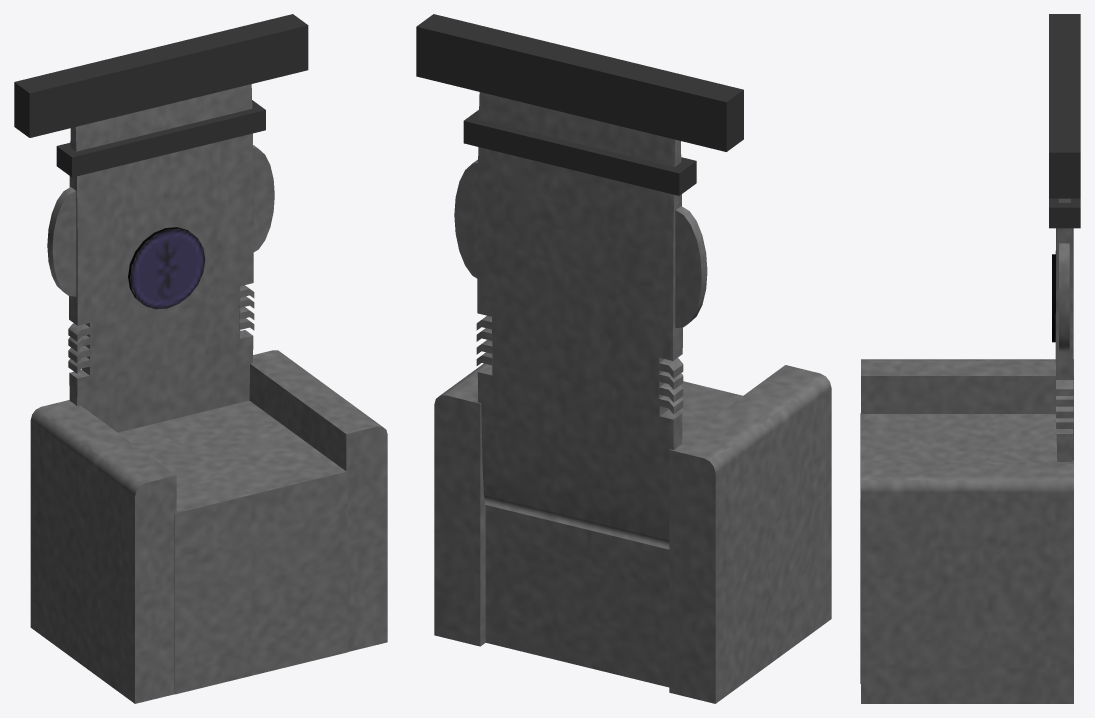
File: Throne of Hades.fbx
The picture shows the model from 3 angles, left to right: view 1: azimuth 30°, elevation 25°; view 2: azimuth 150°, elevation 25°; view 3: azimuth 270°, elevation 25°; orthographic projection. The views are drawn at different scales.
Visible parts, largest first — view 1: pCylinder6; view 2: pCylinder6; view 3: pCylinder6.
Part boxes in pixels (left/top/right/bottom): pCylinder6: left=14, top=14, right=387, bottom=703; pCylinder6: left=416, top=14, right=831, bottom=703; pCylinder6: left=860, top=14, right=1080, bottom=703.
Bounding box in the file's own units: 5.51 × 10.32 × 3.69.
